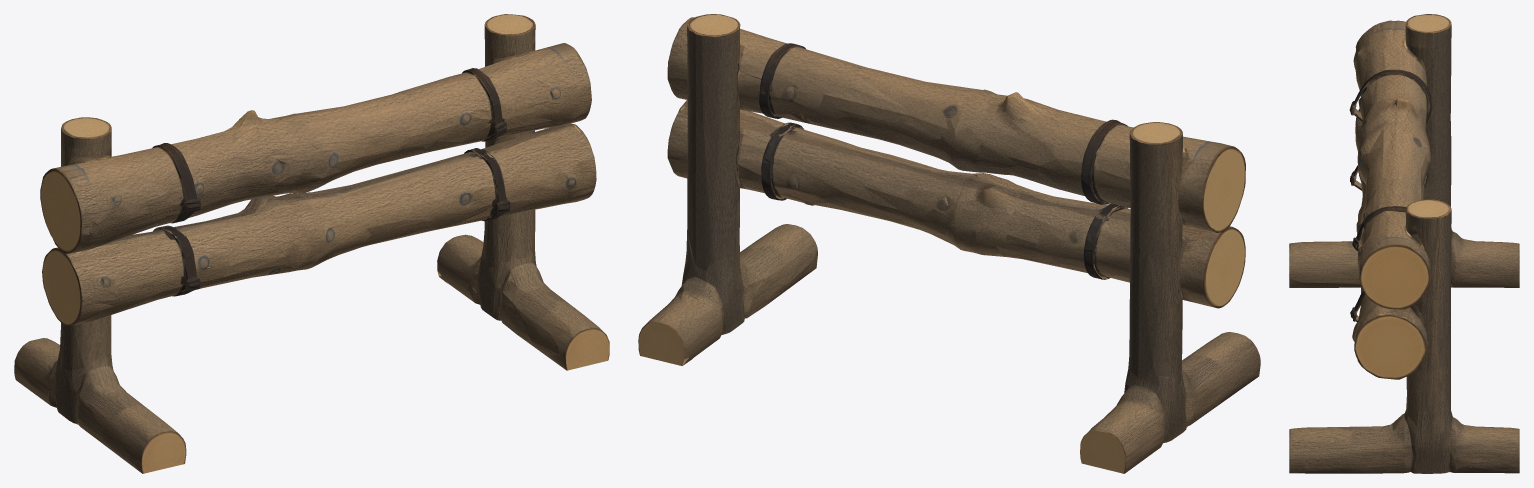
File: pine-run-log-barrier.glb
The picture shows the model from 3 angles, left to right: view 1: azimuth 30°, elevation 25°; view 2: azimuth 150°, elevation 25°; view 3: azimuth 270°, elevation 25°; orthographic projection. The views are drawn at different scales.
Parts seen in each view (by area): view 1: output_unwrapped; view 2: output_unwrapped; view 3: output_unwrapped.
Part boxes in pixels (<box>): output_unwrapped: <box>14,14,609,473</box>; output_unwrapped: <box>638,14,1260,473</box>; output_unwrapped: <box>1289,14,1519,473</box>.
Bounding box in the file's own units: 1.9 × 1.01 × 0.822.
Materials: 1 (1 with a texture image).
